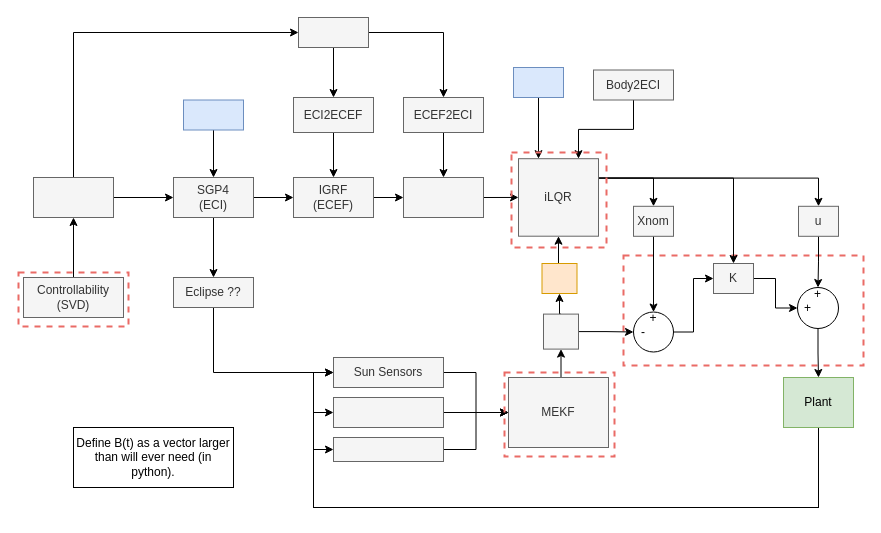
This 881x533 diagram has some shape labels left out. The centre of each missing label's shape, as x and y in pixels:
"B(t) (ECI)" goes at [443,197].
"GMST" goes at [333,32].
"Gyro" goes at [388,449].
"Magnetometer" goes at [388,412].
"Times" goes at [73,197].
"TLE" goes at [213,114].
"X N" goes at [538,82].
"X0" goes at [559,278].
"x̂" goes at [560,331].
